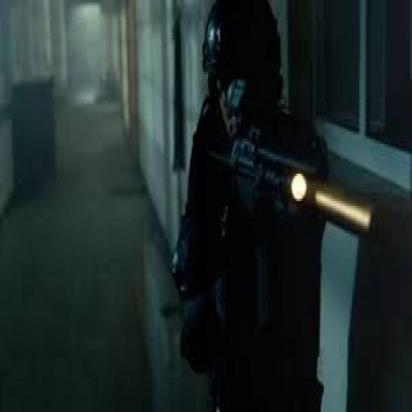Gun: (206, 131, 380, 327)
